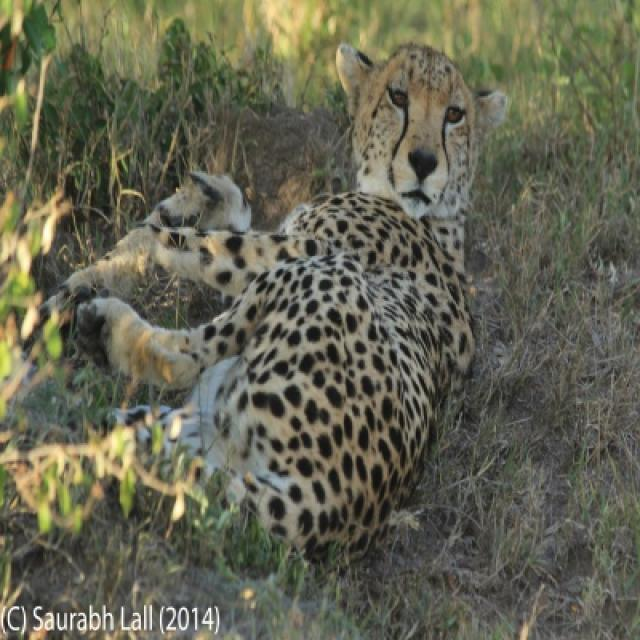Cheetah: (43, 46, 506, 552)
